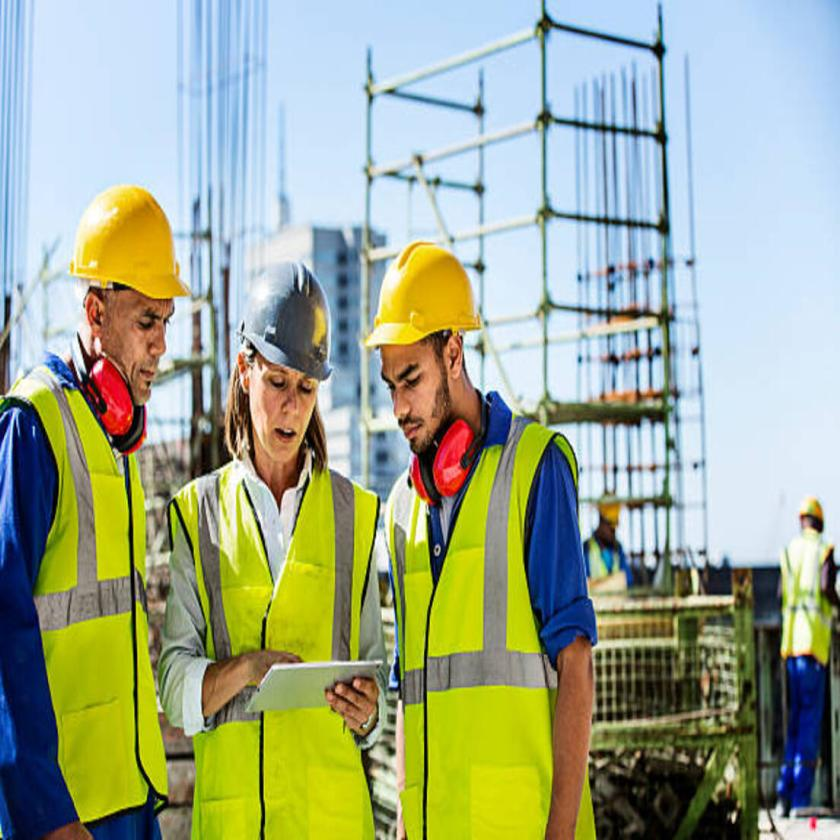Con_casco: (67, 183, 191, 441), (366, 237, 495, 466), (231, 259, 337, 488)
